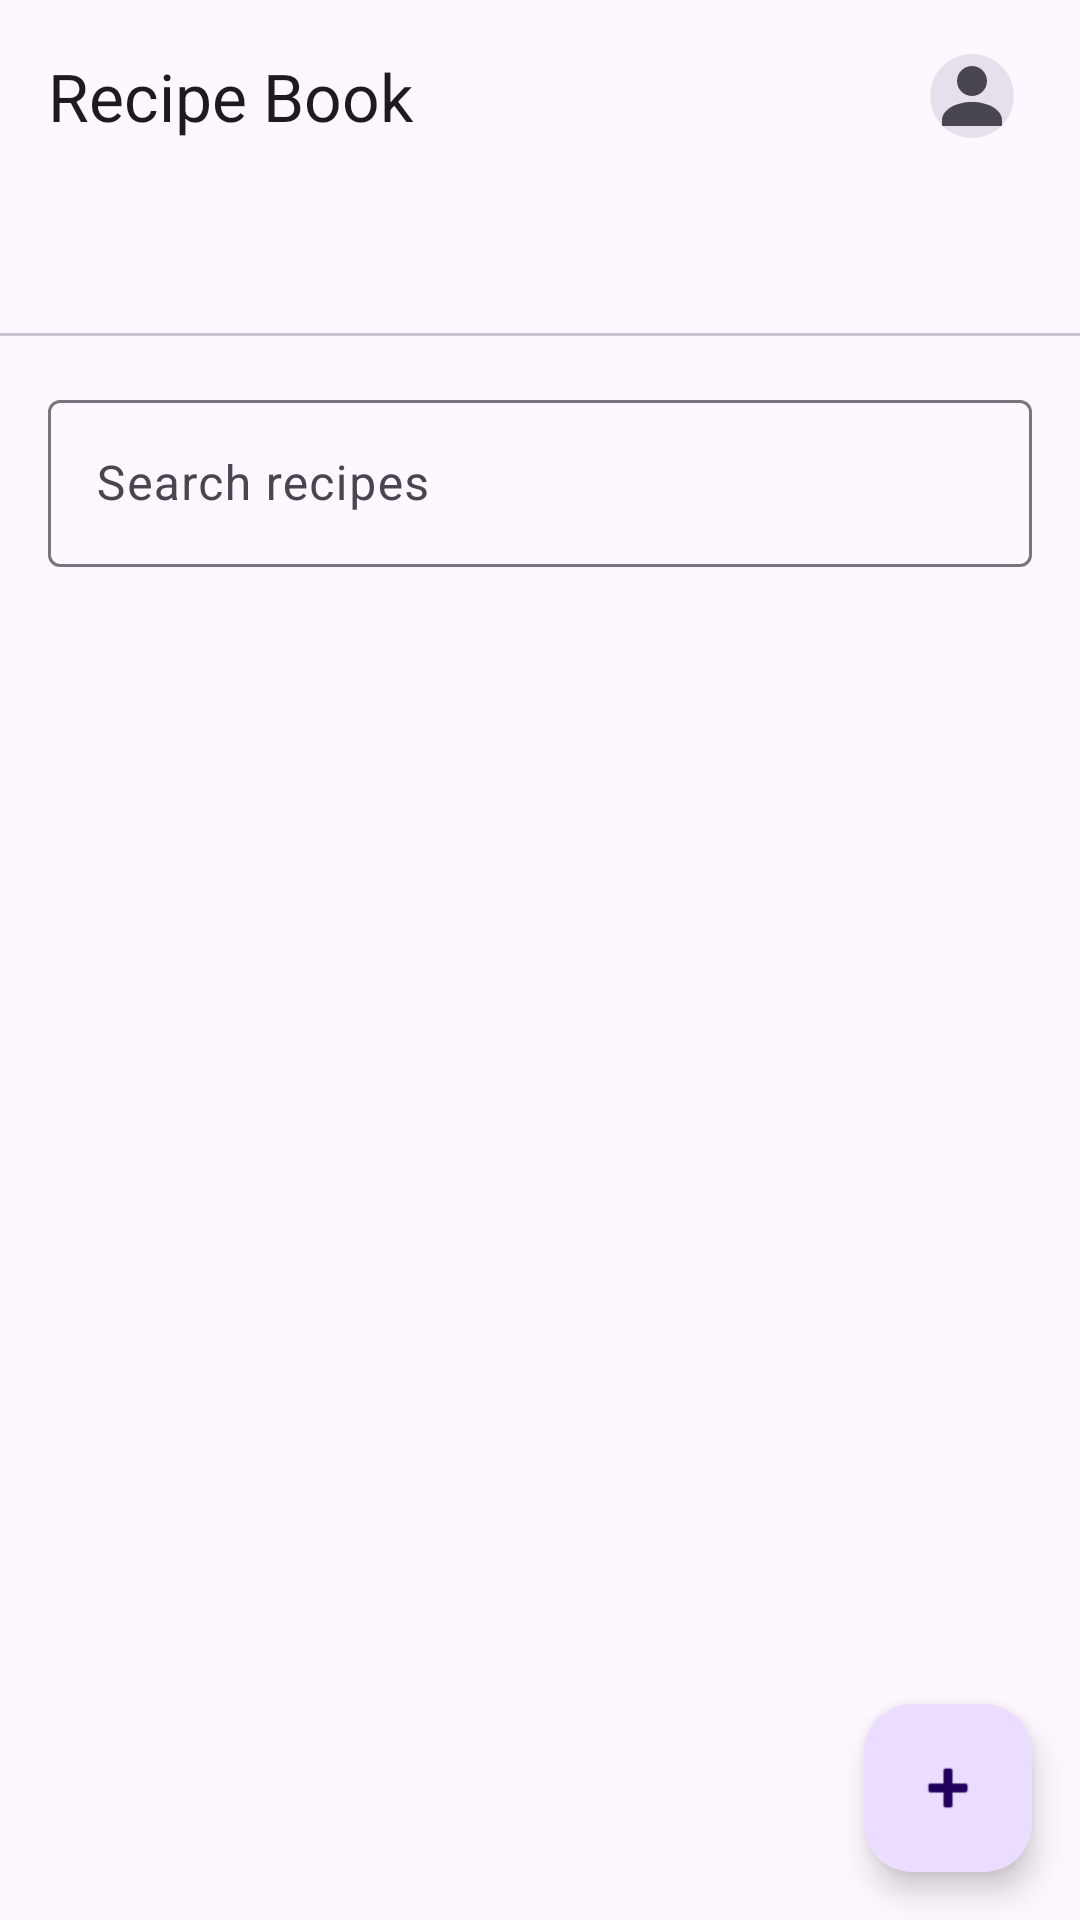

Locate icon controls on the screen. Image size 1080px x 1920px, boxes as bbox=(x1, y1, x2, y2).
Add Recipe: bbox=(864, 1704, 1032, 1872)
